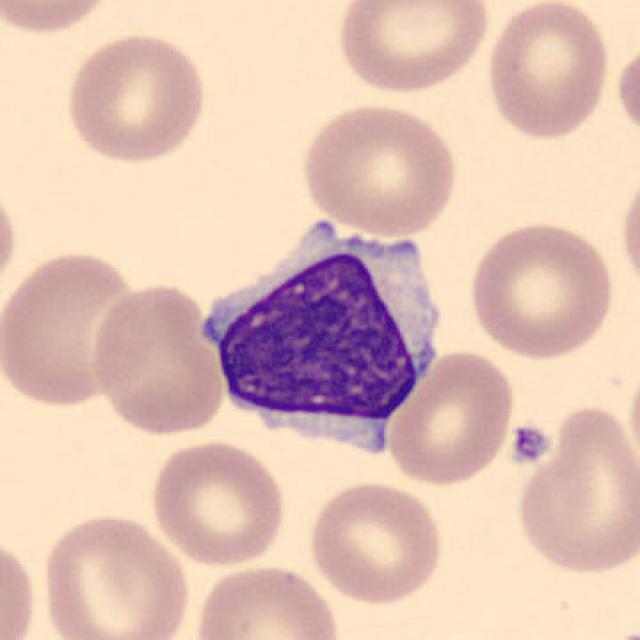Lymphocyte: (188, 210, 454, 472)
Platelets: (506, 420, 554, 469)
RBC: (0, 245, 151, 411), (87, 277, 229, 439), (297, 99, 460, 238), (464, 217, 617, 363), (512, 401, 638, 578), (60, 28, 212, 166), (35, 509, 193, 640), (384, 348, 519, 488), (146, 438, 288, 570), (482, 0, 613, 143), (304, 478, 446, 606), (332, 0, 492, 97), (188, 560, 344, 640), (0, 527, 41, 640), (0, 0, 117, 37), (617, 162, 640, 296), (0, 176, 21, 304), (614, 39, 638, 148)
